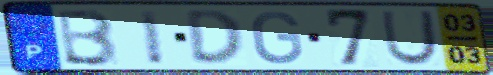7: (322, 6, 375, 69)
B: (56, 7, 121, 68)
D: (182, 8, 247, 68)
G: (249, 10, 306, 66)
I: (136, 8, 168, 67)
U: (379, 9, 441, 67)
